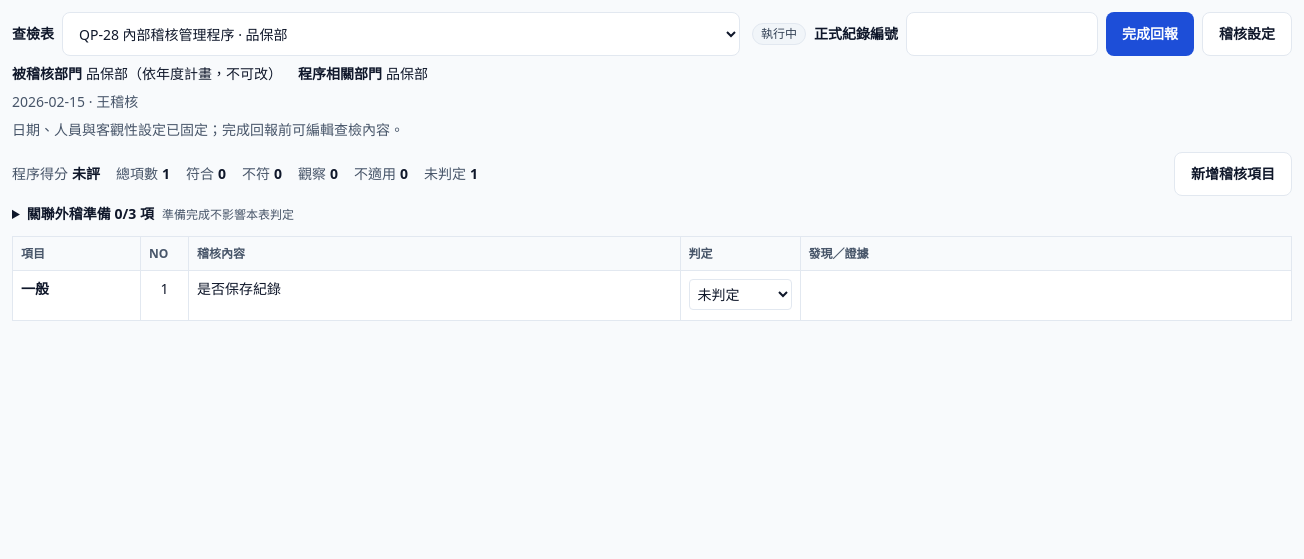
Test: ProcedureAuditPanel › shows evidence fields for the current judgment and keeps saved text
Expected: the field labelled "客觀證據" is not shown
Expected: the field labelled "發現說明" is not shown
Select "符合" in the dropdown named "判定": (740, 295) [688, 279, 792, 310]
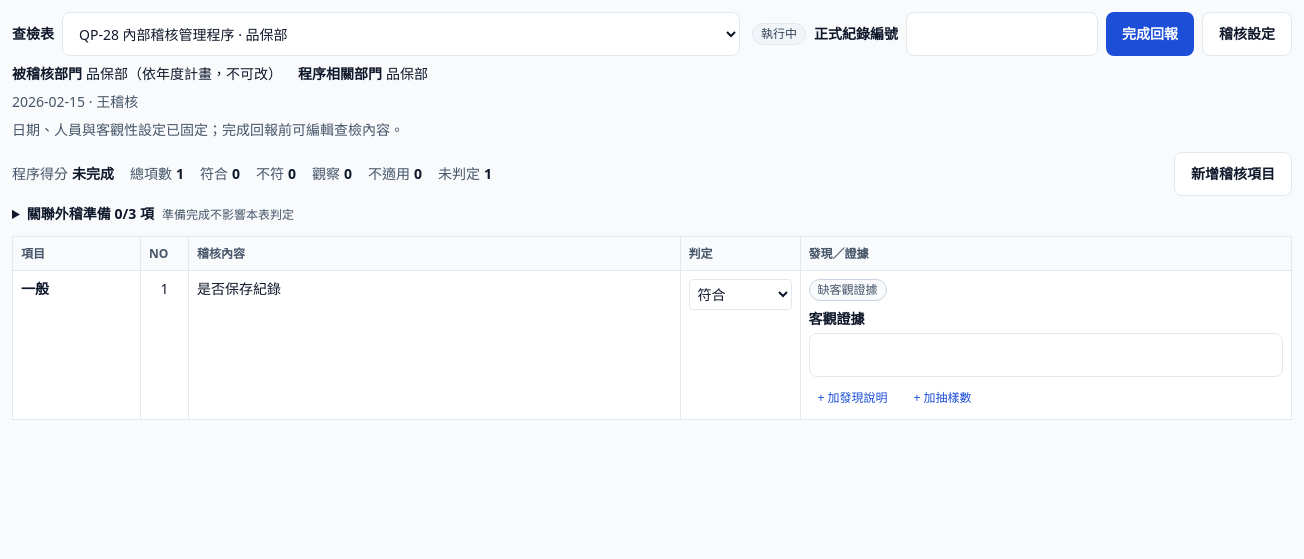
Expected: the field labelled "客觀證據" is shown, [808, 333, 1283, 377]
Expected: the text "缺客觀證據" is shown, [808, 279, 886, 301]
Click the button with aria-label "QP-28 NO 1 加發現說明": (852, 398) [808, 385, 896, 411]
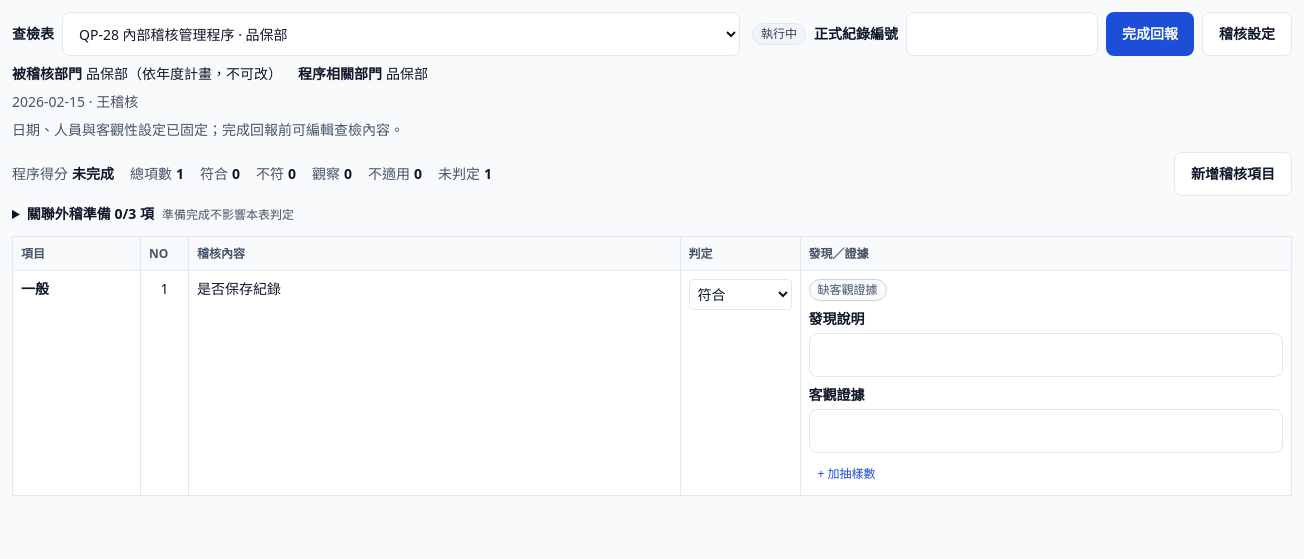
In the field labelled "發現說明": (1046, 355) [808, 333, 1283, 377], type "現場說明"
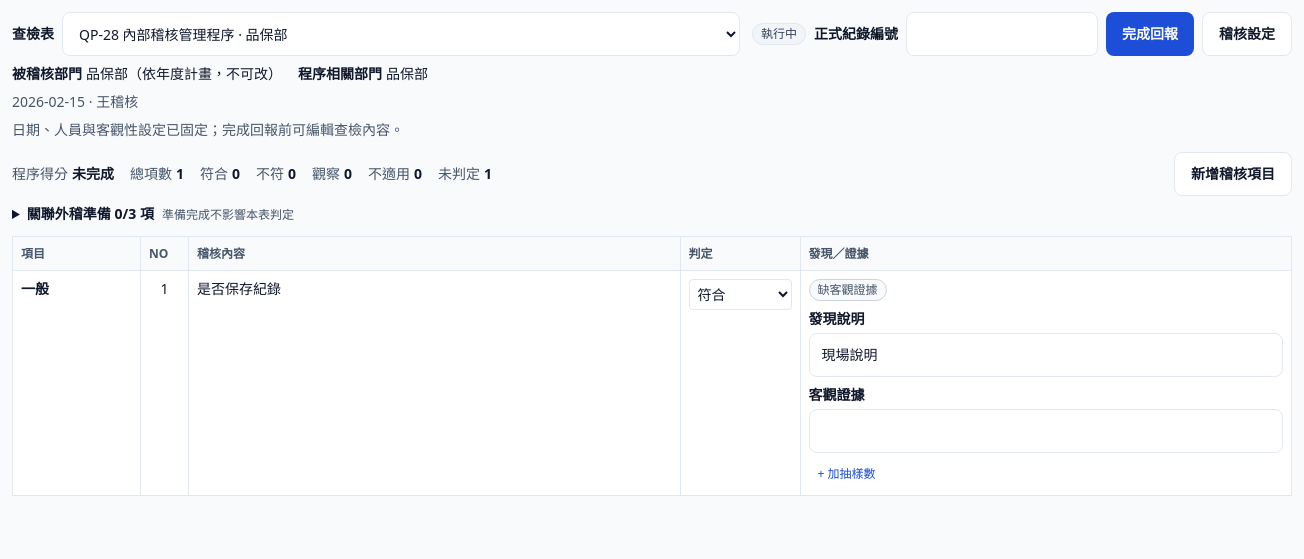
In the field labelled "客觀證據": (1046, 431) [808, 409, 1283, 453], type "QR-01"
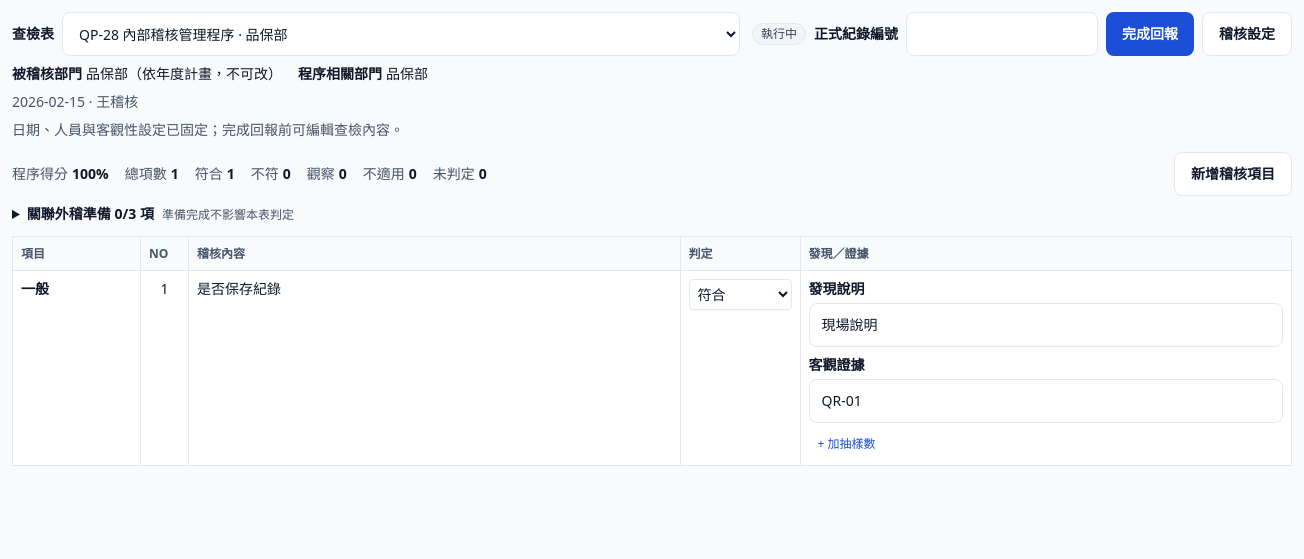
Expected: the text "缺客觀證據" is gone
Select "觀察" in the dropdown named "判定": (740, 295) [688, 279, 792, 310]
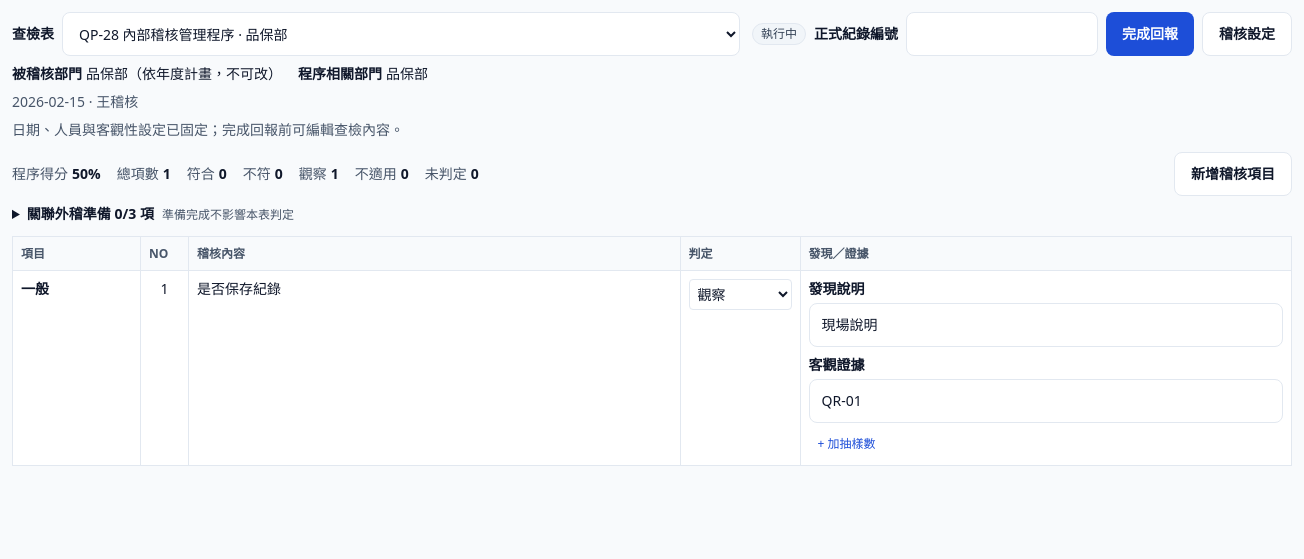
Select "不適用" in the dropdown named "判定": (740, 295) [688, 279, 792, 310]
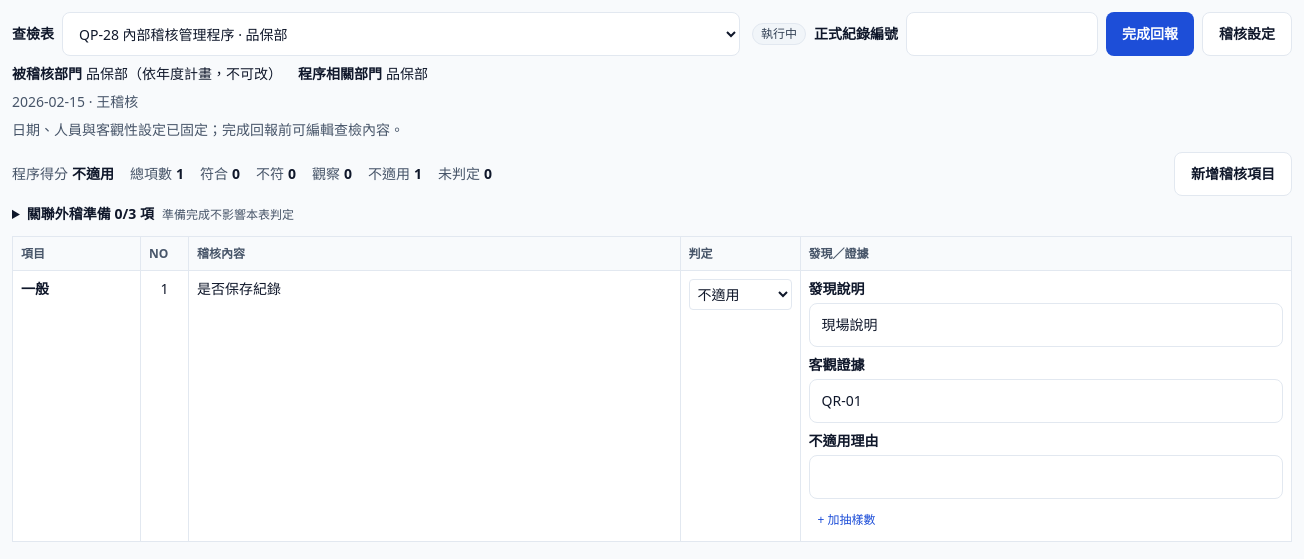
Expected: the field labelled "不適用理由" is shown, [808, 455, 1283, 499]
